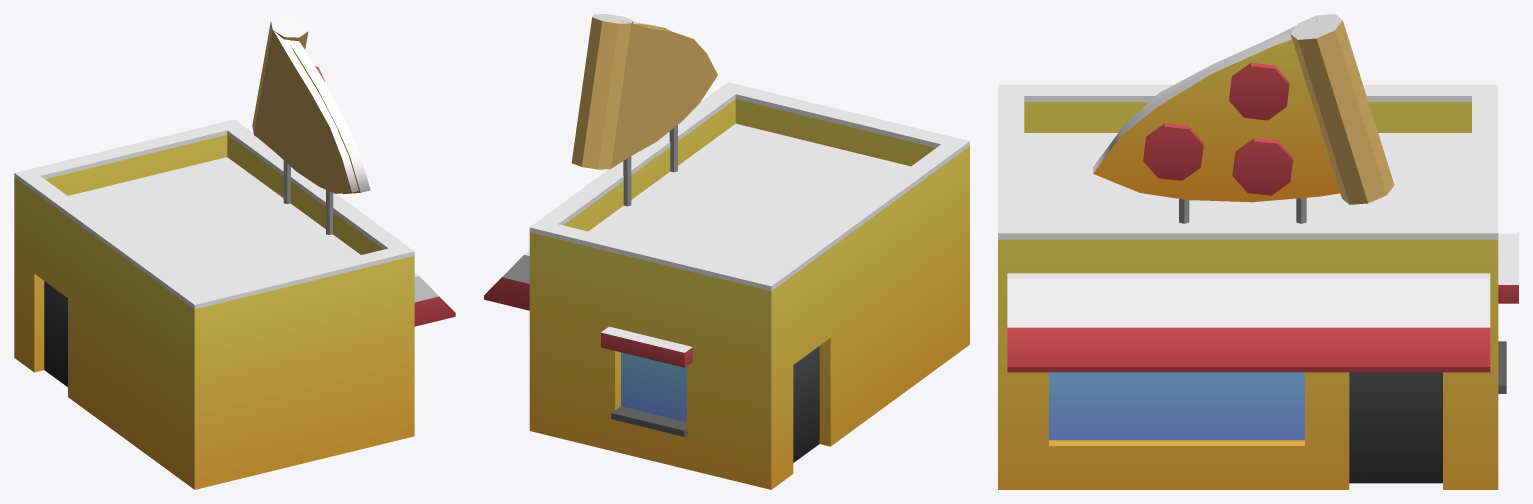
The model's file is pizzeria.fbx.
3 views of the same model, side by side, from view 1: azimuth 30°, elevation 25°; view 2: azimuth 150°, elevation 25°; view 3: azimuth 270°, elevation 25° (orthographic). The views are drawn at different scales.
Parts seen in each view (by area): view 1: pCube37; view 2: pCube37; view 3: pCube37.
Part boxes in pixels (box(x1,y1,x2,y2)): pCube37: box(14, 14, 455, 489); pCube37: box(484, 14, 969, 489); pCube37: box(998, 14, 1518, 489).
Bounding box in the file's own units: 4.05 × 4.89 × 4.99.
